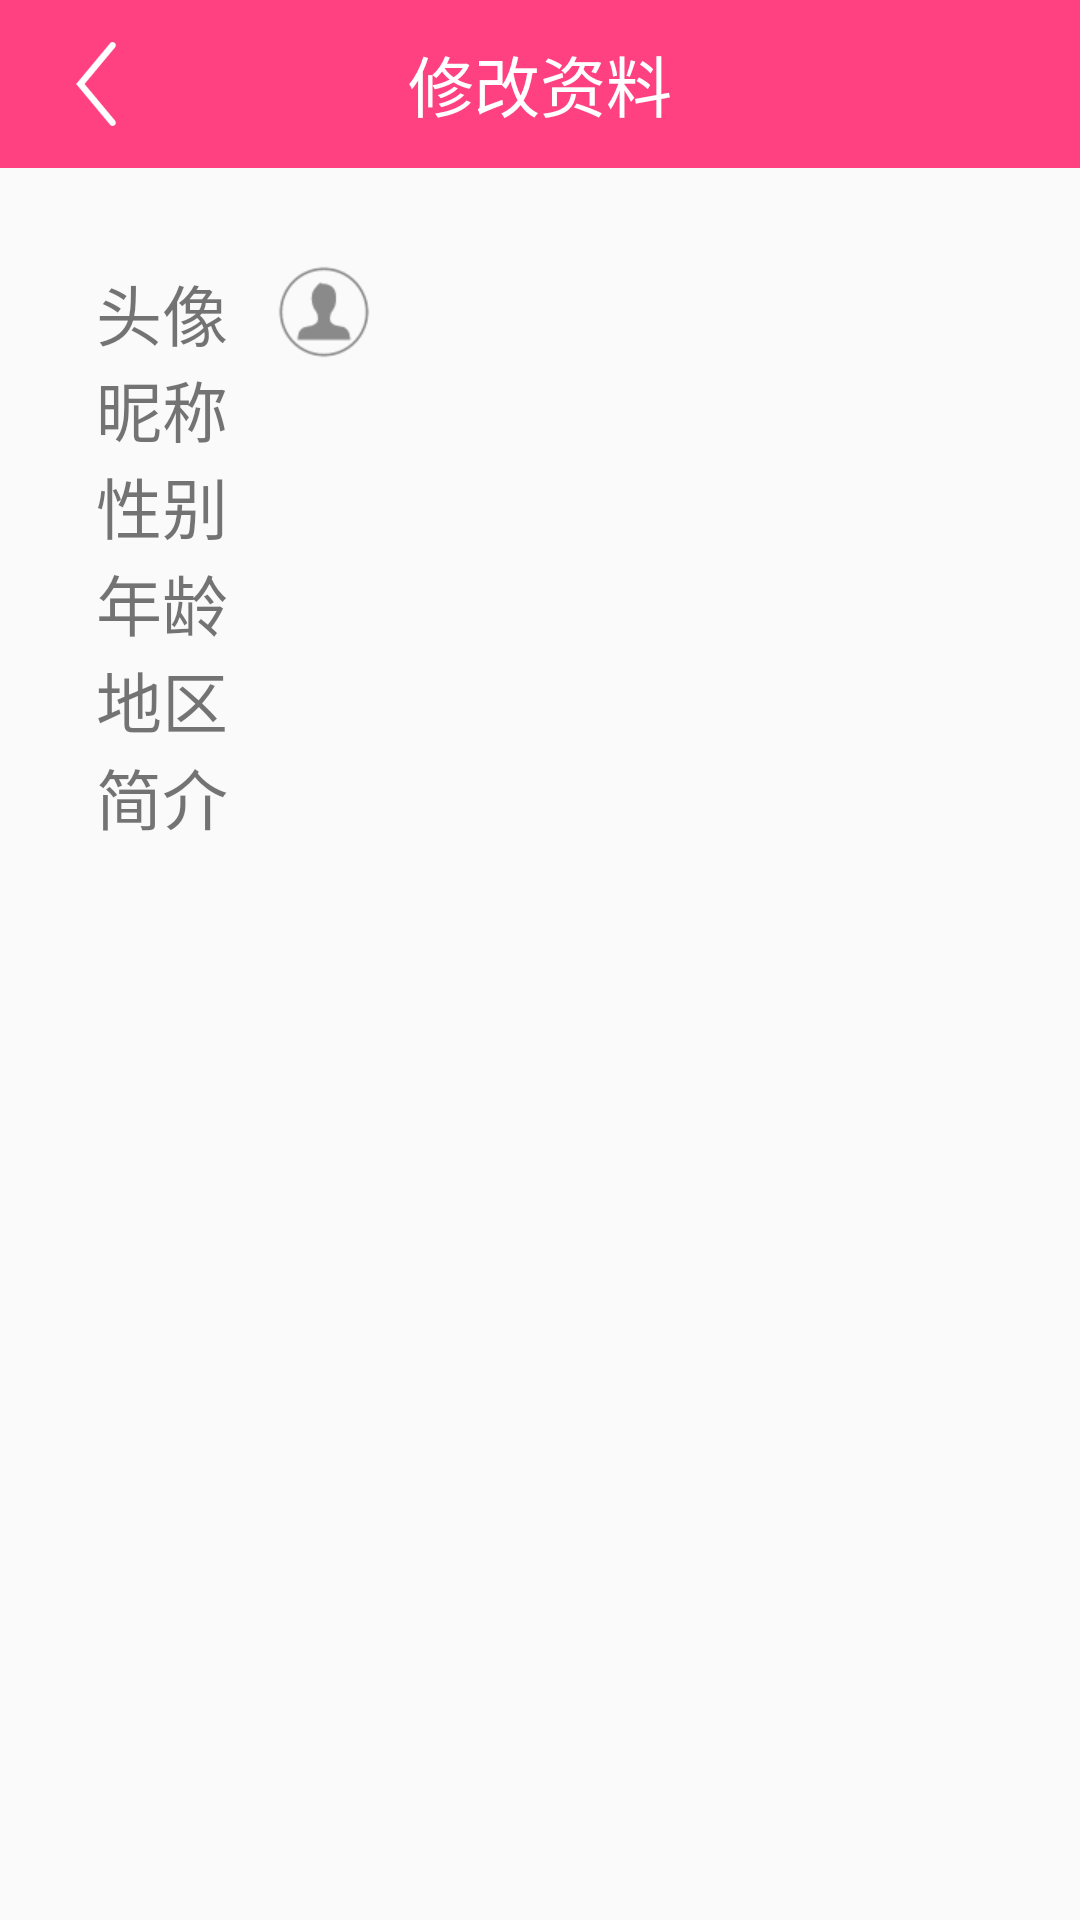

Icons on this 1080×1920 Android screen, each with the point to tap as (x=x, y=y):
back: (x=96, y=84)
